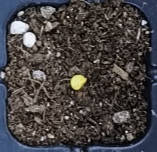pepper seed: (26, 29, 114, 120)
